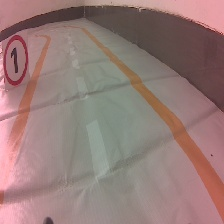limit: (1, 32, 32, 91)
